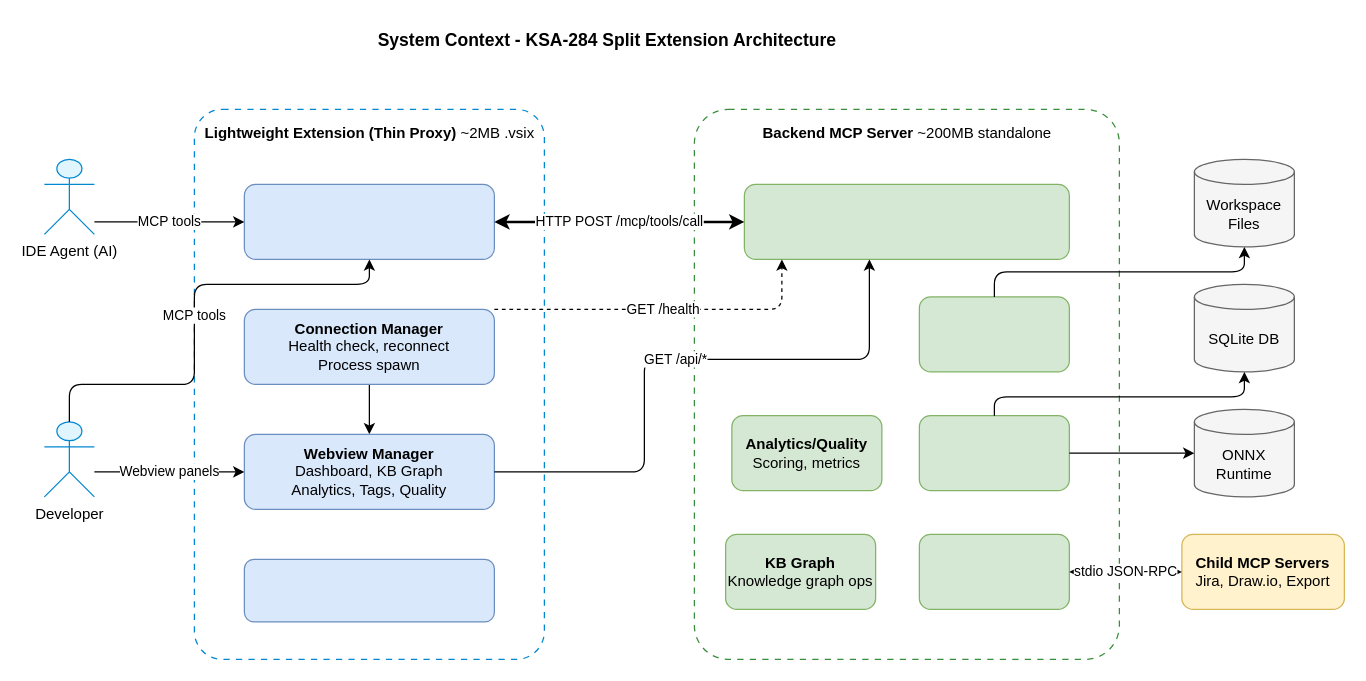
The diagram is 1366 pixels wide and 681 high, and some of its shapes have lost their labels. The shapes that lost their labels are listed below. From the top down, each one's centre as x and y in pixels, then its label:
the point at 368,221: Tool Proxy Register + forward 52 MCP tools
the point at 906,221: HTTP Server /mcp/tools/call /health, /api/*
the point at 993,334: Code Intelligence Index, symbols, search
the point at 993,452: Memory Module SQLite + ONNX
the point at 368,590: Status Bar Connection indicator
the point at 993,571: Orchestration Child server mgmt
